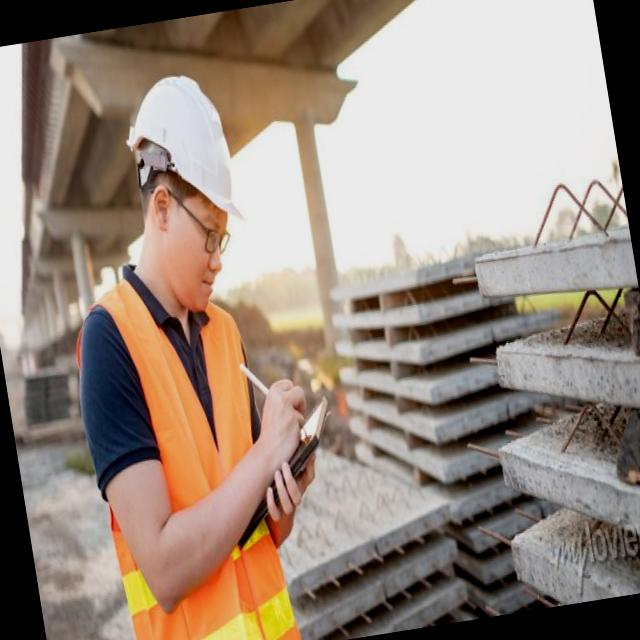goggles: (170, 207, 234, 264)
helmet: (127, 70, 248, 238)
vest: (95, 300, 298, 640)
